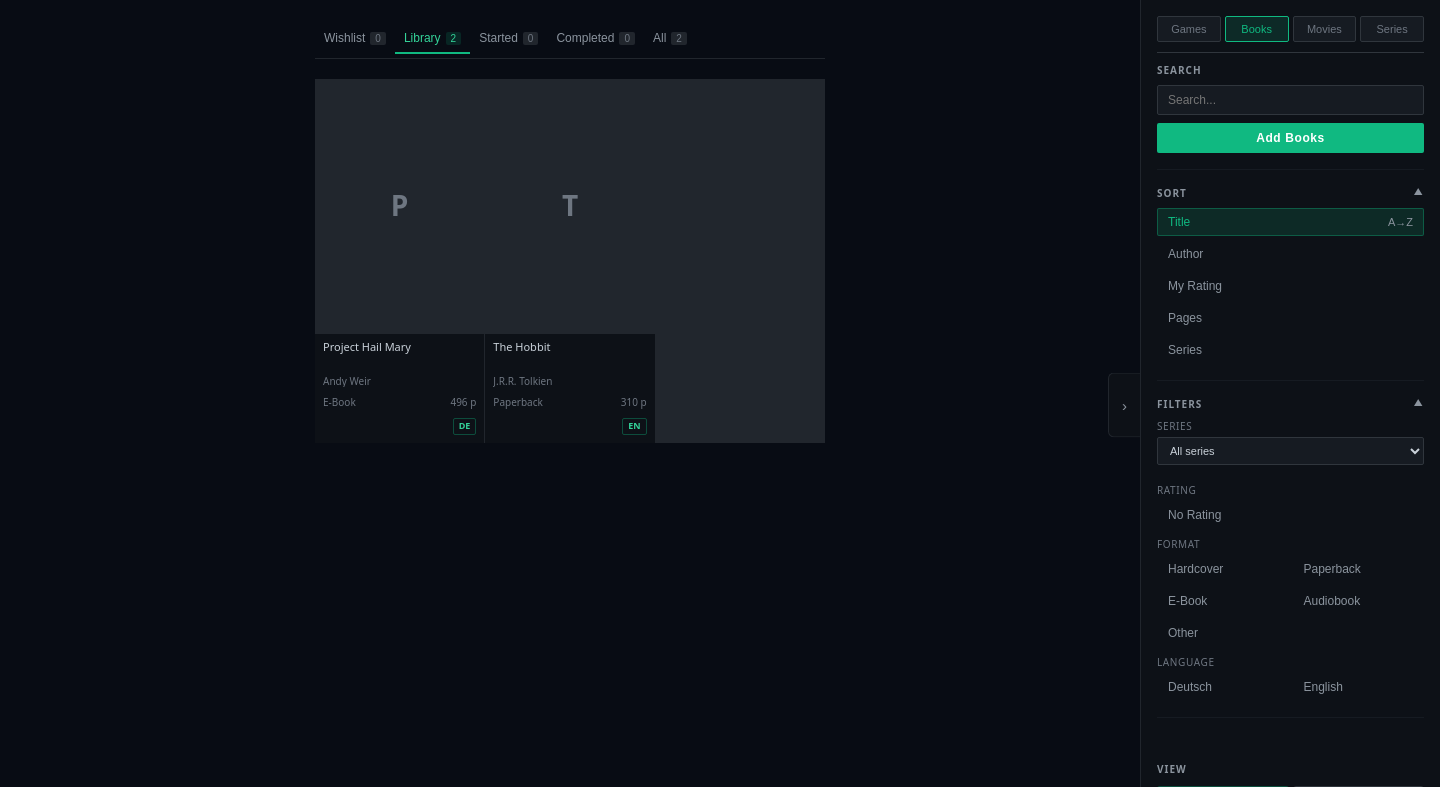
Test case: BookList – Filters & sort › Language-Filter zeigt nur passende Bücher
Click the button with class "filter-btn" showing "Deutsch": click(1223, 687) [1157,673,1288,701]
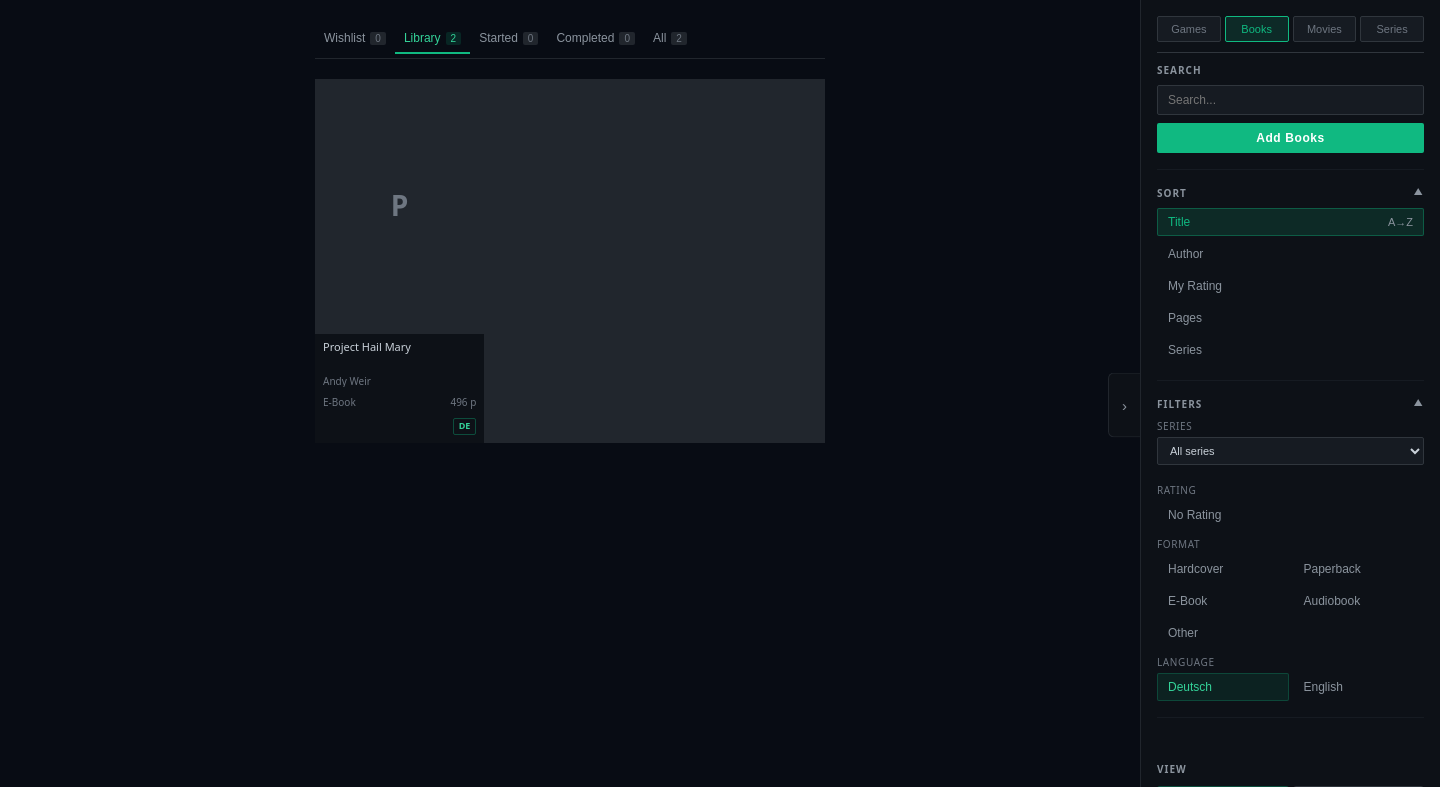
expect the text "Project Hail Mary" is shown: met, box [323,340,411,354]
expect the text "Hobbit" is gone: met
